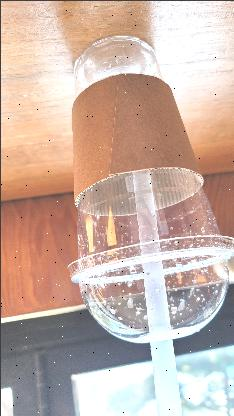Others: (66, 35, 234, 343), (82, 233, 234, 341), (127, 168, 183, 416)
